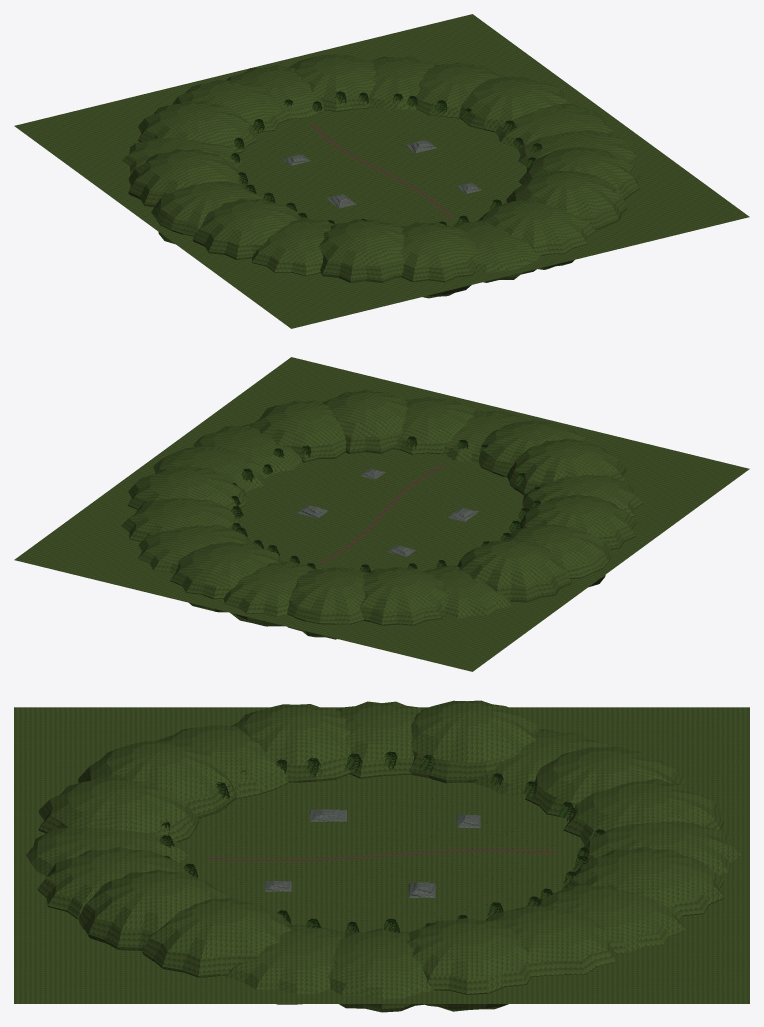
Rendered from map_3_v1.glb.
The picture shows the model from 3 angles, top to bottom: view 1: azimuth 30°, elevation 25°; view 2: azimuth 150°, elevation 25°; view 3: azimuth 270°, elevation 25°; orthographic projection. The views are drawn at different scales.
Parts seen in each view (by area): view 1: meadow_ground, foliage, weathered_granite, earth; view 2: meadow_ground, foliage, weathered_granite, earth; view 3: meadow_ground, foliage, weathered_granite, earth.
Part boxes in pixels (left/top/right/bottom): meadow_ground: left=14, top=14, right=749, bottom=328; foliage: left=231, top=91, right=542, bottom=225; weathered_granite: left=283, top=140, right=481, bottom=208; earth: left=311, top=124, right=452, bottom=218; meadow_ground: left=14, top=357, right=749, bottom=671; foliage: left=231, top=436, right=541, bottom=572; weathered_granite: left=296, top=468, right=478, bottom=556; earth: left=319, top=465, right=444, bottom=563; meadow_ground: left=14, top=700, right=749, bottom=1012; foliage: left=160, top=751, right=604, bottom=932; weathered_granite: left=265, top=809, right=480, bottom=897; earth: left=208, top=849, right=555, bottom=861.
Bounding box in the file's own units: 420 × 57.51 × 440.
5 materials, 5 textured.
